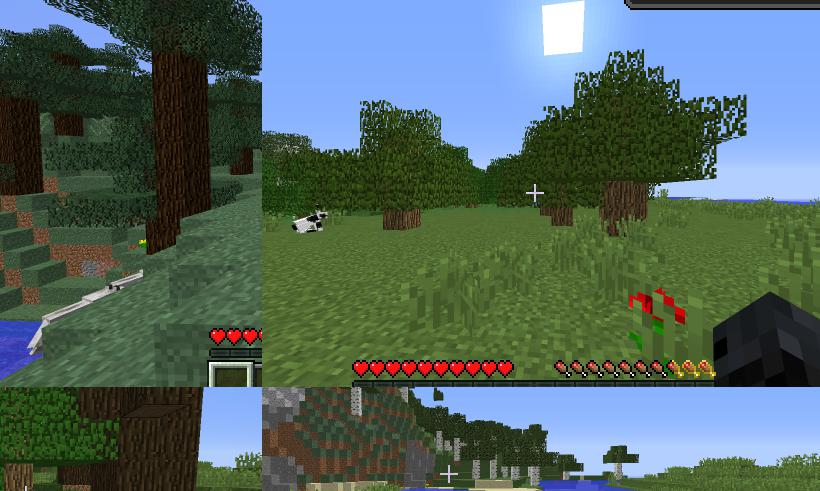minecraft-blocks: (153, 57, 210, 230), (103, 415, 196, 491), (1, 98, 43, 199), (600, 182, 634, 238), (121, 388, 189, 416), (73, 388, 119, 417), (3, 463, 34, 491), (385, 210, 424, 232), (633, 184, 649, 224), (552, 206, 574, 226), (352, 388, 364, 419), (532, 467, 541, 488), (491, 461, 498, 481), (474, 461, 481, 481), (455, 439, 461, 462), (402, 388, 410, 405), (615, 464, 623, 480), (541, 208, 553, 218), (438, 432, 443, 456), (513, 467, 521, 481), (502, 467, 509, 479), (445, 441, 451, 452), (565, 473, 571, 481)
